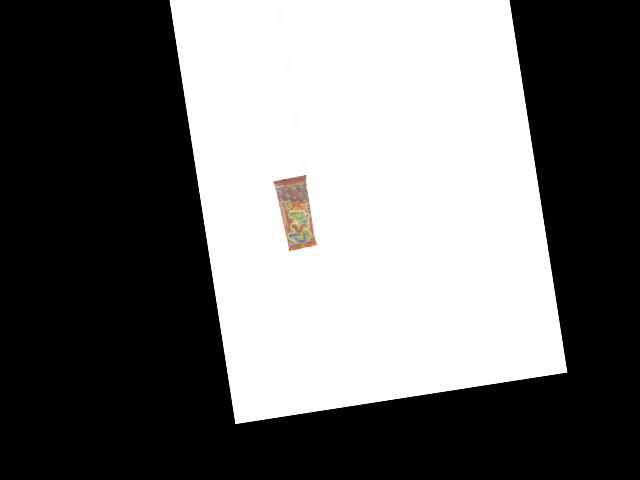chocolate: (274, 175, 317, 251)
